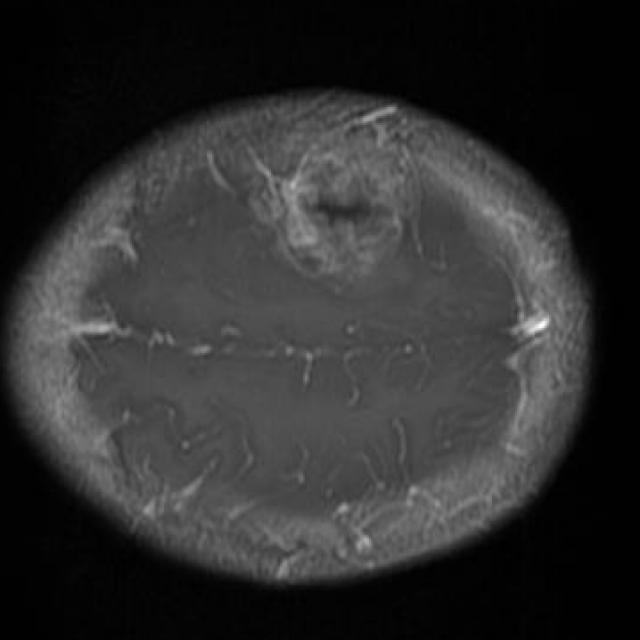glioma: (250, 130, 419, 278)
